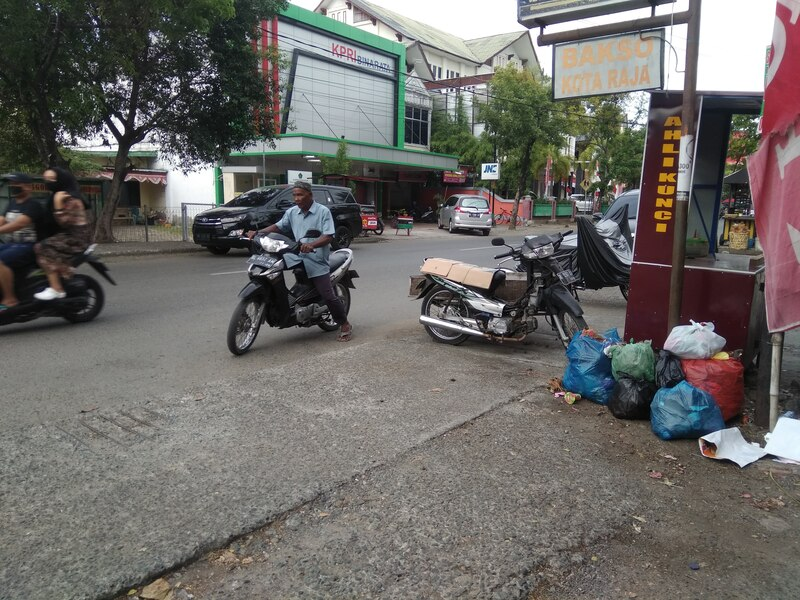becak barang: (408, 225, 608, 363)
